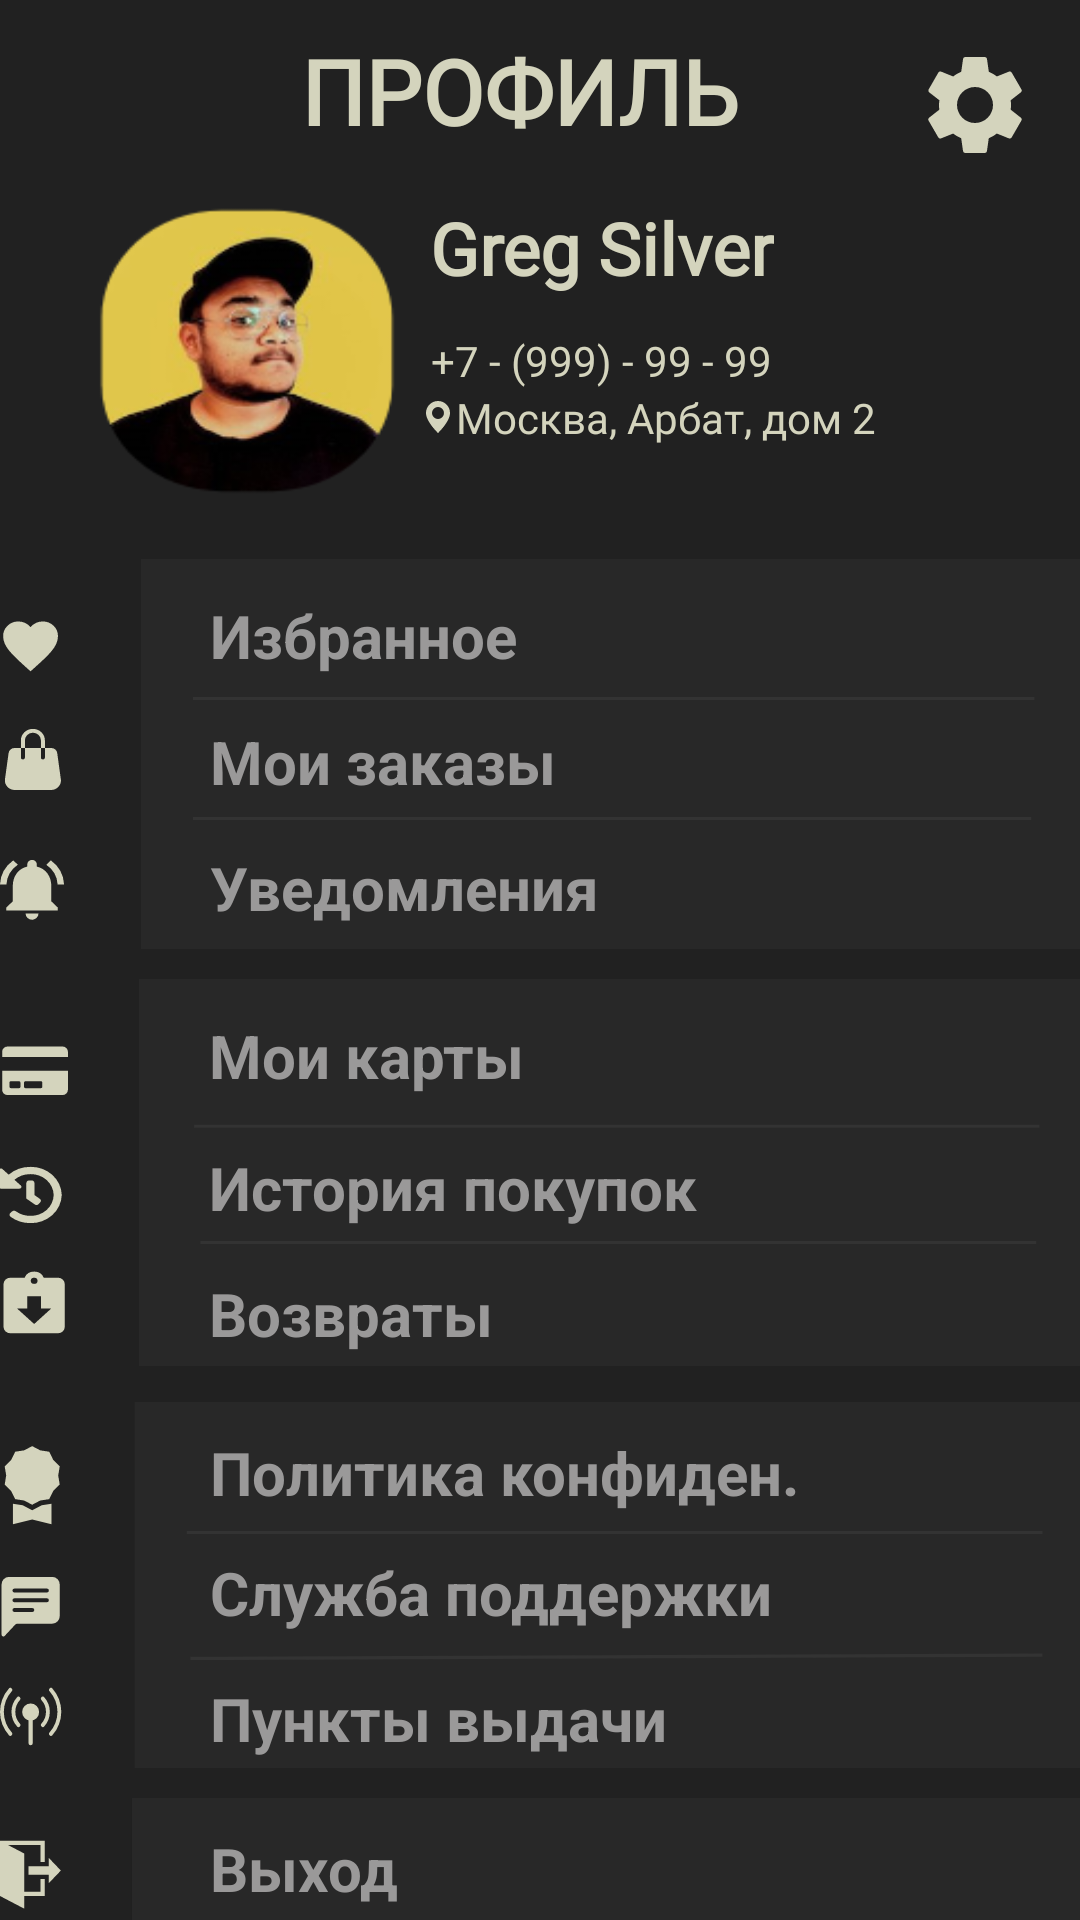

Icons on this 1080w x 1920h Android screen, each with its box as {"left": x1, "top": y1, "right": x2, "bottom": y2}:
settings: {"left": 928, "top": 57, "right": 1022, "bottom": 153}
userava: {"left": 100, "top": 209, "right": 394, "bottom": 491}
